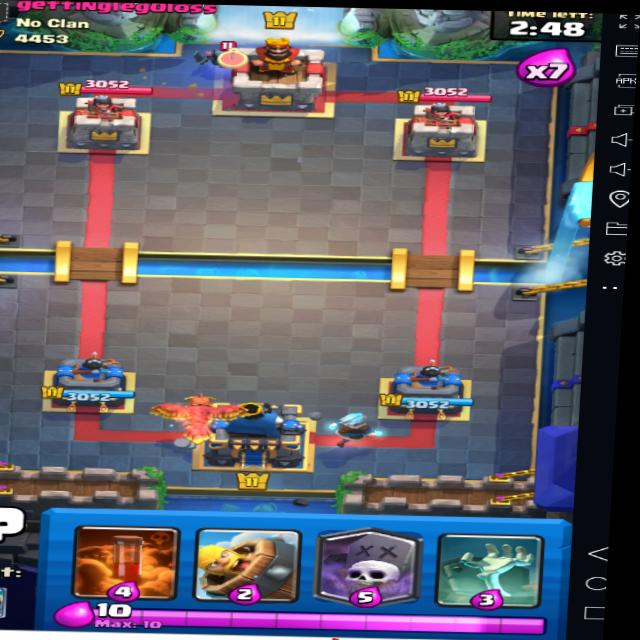Minipekka: (200, 36, 243, 71)
